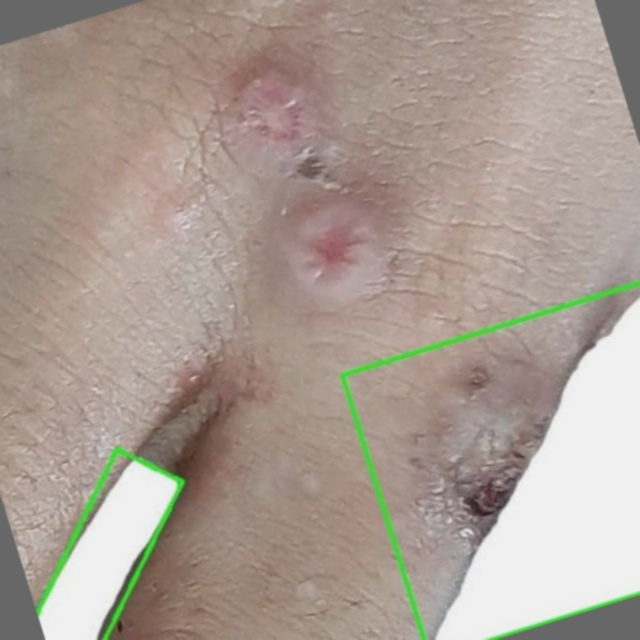Scabies: (341, 281, 639, 639), (60, 448, 186, 639)
